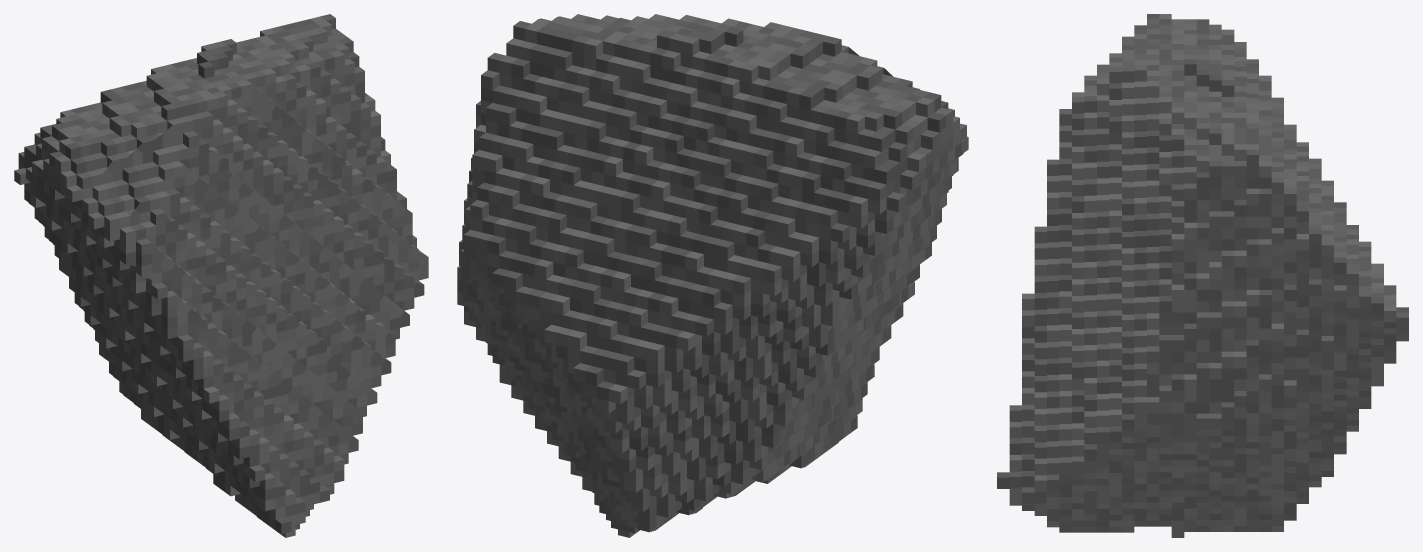
File: Asteroid_A10.fbx
3 views of the same model, side by side, from view 1: azimuth 30°, elevation 25°; view 2: azimuth 150°, elevation 25°; view 3: azimuth 270°, elevation 25° (orthographic). The views are drawn at different scales.
Parts seen in each view (by area): view 1: T1-9; view 2: T1-9; view 3: T1-9.
Boxes of the visible parts, bbox=[...] form: T1-9: bbox=[14, 14, 428, 537]; T1-9: bbox=[457, 14, 968, 537]; T1-9: bbox=[997, 14, 1408, 537].
Size of the model in its own units: 370 by 400 by 330.
